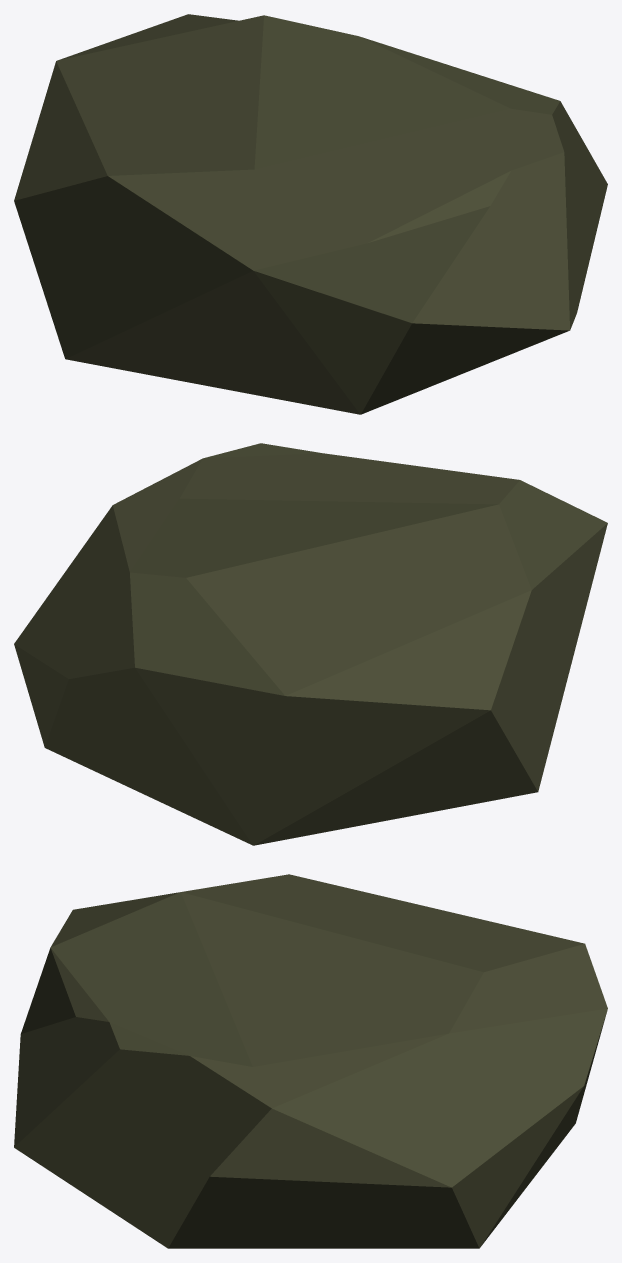
Rendered from bush2.fbx.
3 renders of one model, top to bottom at view 1: azimuth 30°, elevation 25°; view 2: azimuth 150°, elevation 25°; view 3: azimuth 270°, elevation 25°, orthographic. The views are drawn at different scales.
Parts seen in each view (by area): view 1: bush_2; view 2: bush_2; view 3: bush_2.
Part boxes in pixels (x1,y1,x2,y2): bush_2: [14, 14, 607, 414]; bush_2: [14, 443, 607, 845]; bush_2: [14, 874, 607, 1248].
Bounding box in the file's own units: 182 × 77.51 × 201.
